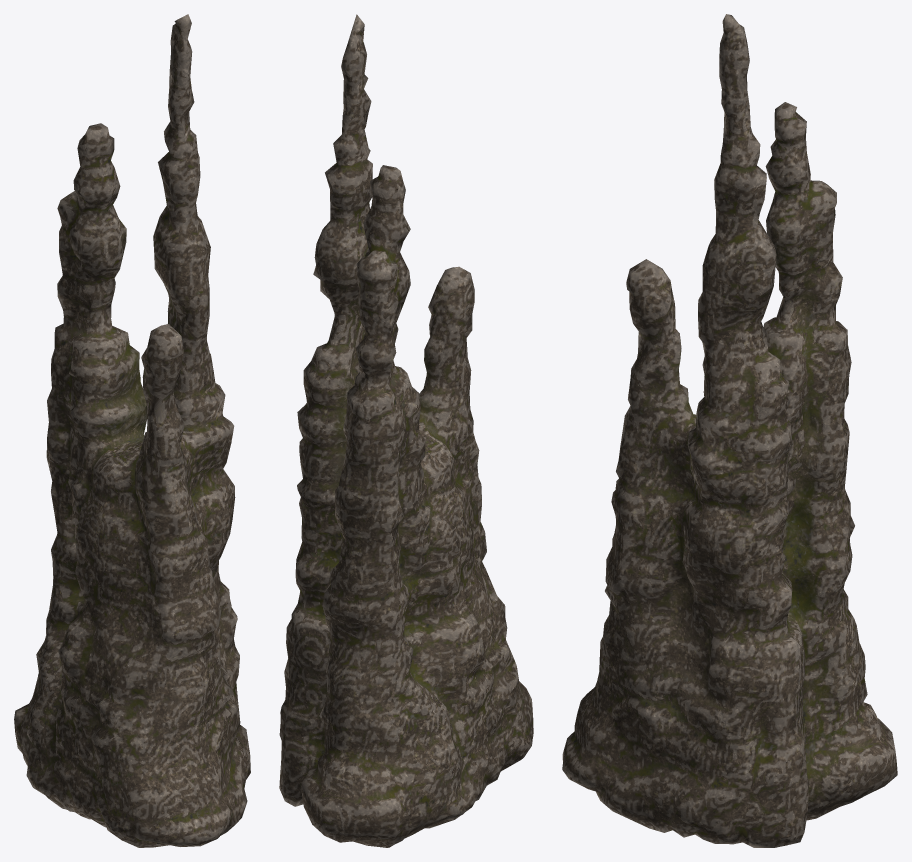
The model's file is SM_Stalacite_A.fbx.
3 renders of one model, left to right at view 1: azimuth 30°, elevation 25°; view 2: azimuth 150°, elevation 25°; view 3: azimuth 270°, elevation 25°, orthographic. The views are drawn at different scales.
Visible parts, largest first — view 1: SM_Stalacite_A_LOD0; view 2: SM_Stalacite_A_LOD0; view 3: SM_Stalacite_A_LOD0.
Boxes of the visible parts, bbox=[...] form: SM_Stalacite_A_LOD0: bbox=[14, 14, 250, 847]; SM_Stalacite_A_LOD0: bbox=[279, 14, 533, 847]; SM_Stalacite_A_LOD0: bbox=[562, 14, 897, 847].
Bounding box in the file's own units: 151 × 227 × 612.
